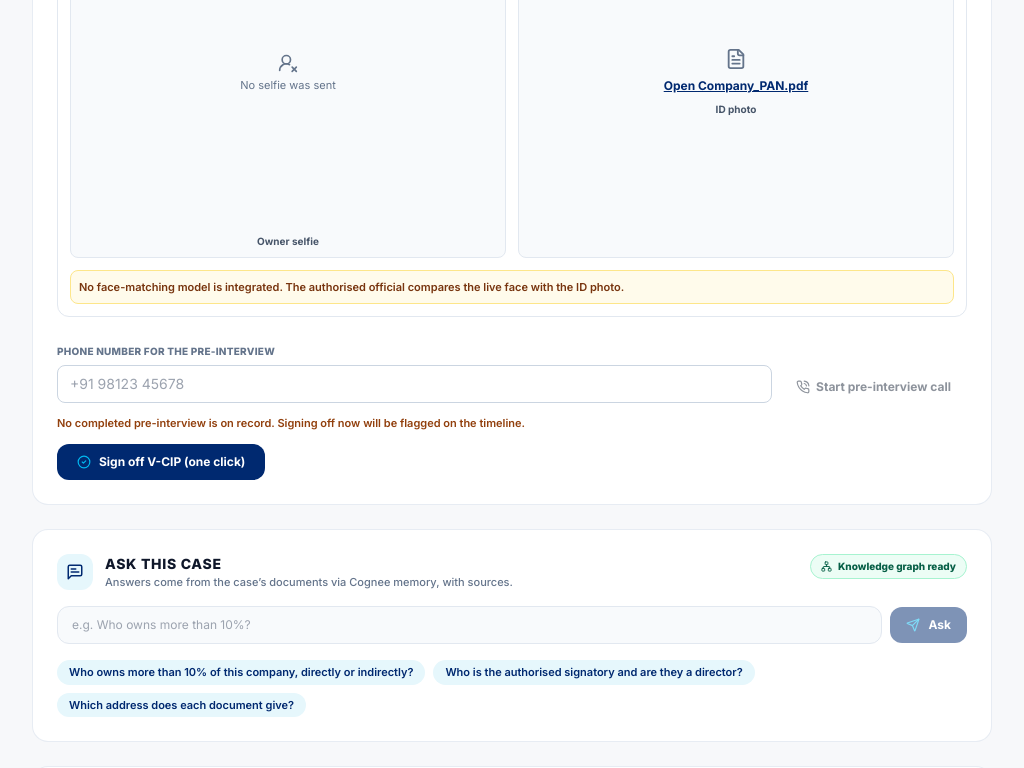
Test case: V-CIP card (Compliance) › starts the pre-interview call only with a valid number, and signs off in one click
The image size is (1024, 768).
Later steps or results of the test are not shown.
(page scrolled)
Expected: the button "Start pre-interview call" is disabled, [780,371,967,403]
Type "98123 45678" into the field labelled "Phone number for the pre-interview" at (415, 384), box [57,365,772,403]
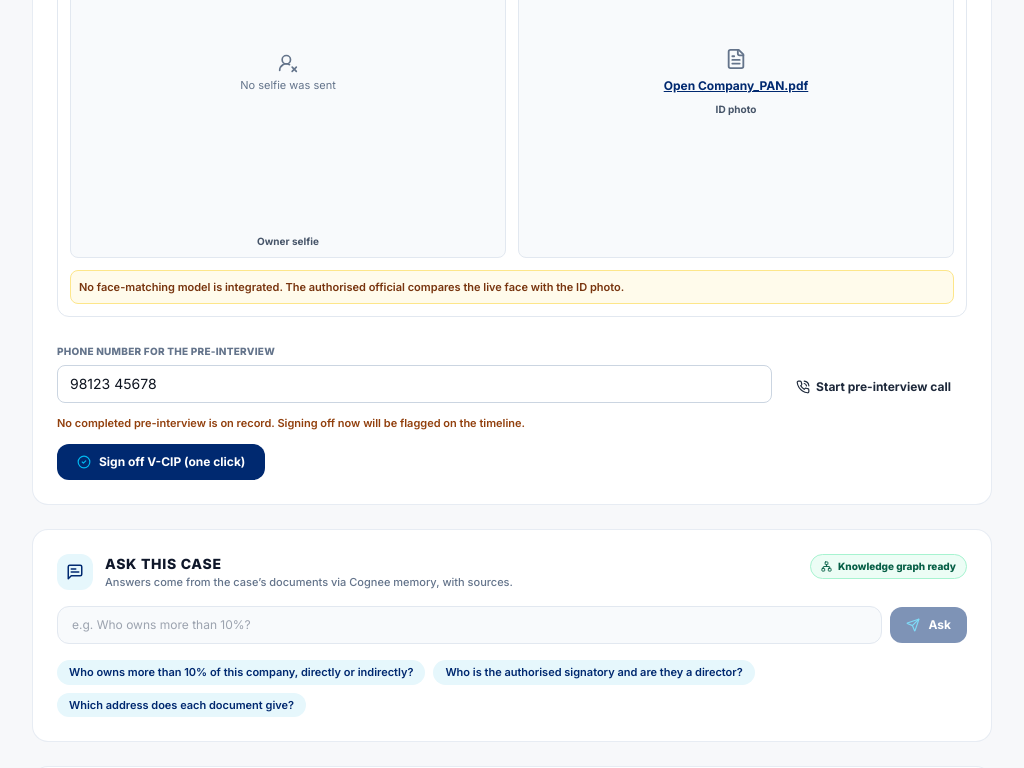
Now the button "Start pre-interview call" is enabled, box [780,371,967,403]
